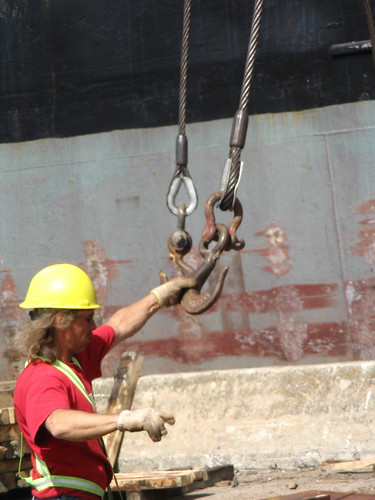person hardhat: (19, 261, 123, 500)
